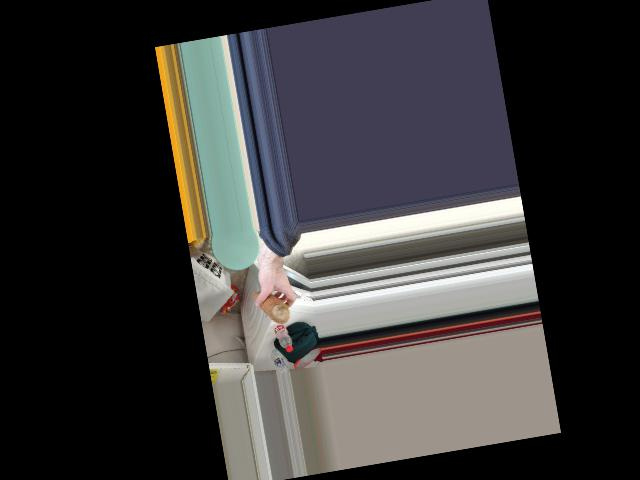sweet_potato: (251, 288, 288, 328)
